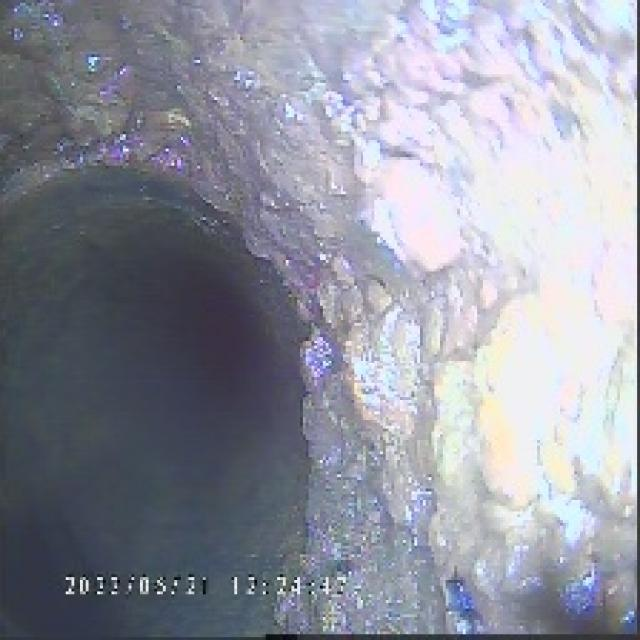encrustation: (308, 14, 583, 540)
